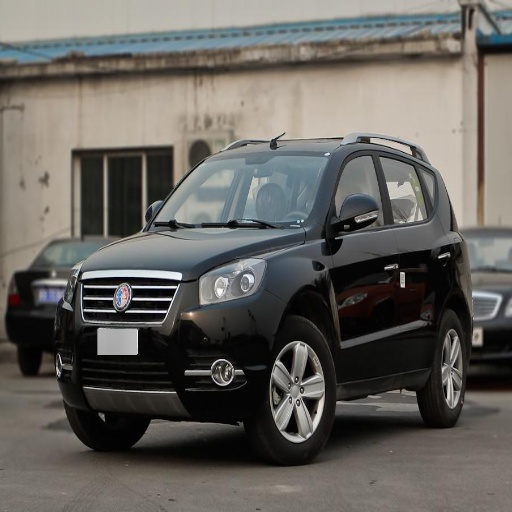front_bumper: (55, 273, 283, 421)
front_glass: (154, 145, 332, 227)
front_left_door: (326, 147, 403, 381)
